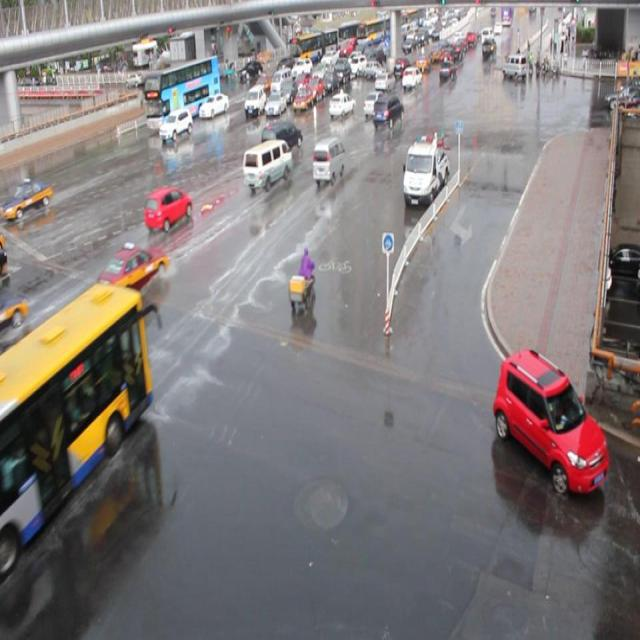bus: (401, 136, 448, 205)
car: (491, 346, 607, 493), (88, 241, 170, 315), (143, 185, 193, 231), (1, 177, 53, 219), (260, 119, 302, 155), (1, 288, 28, 332), (159, 108, 193, 140), (372, 94, 403, 128), (198, 92, 229, 118), (328, 93, 356, 116), (362, 91, 387, 116), (264, 91, 286, 116), (292, 86, 312, 112), (374, 71, 396, 93), (252, 73, 274, 95), (279, 80, 298, 103), (305, 77, 324, 100), (292, 71, 311, 93)
truck: (242, 138, 292, 190), (311, 137, 344, 184), (246, 84, 268, 116), (270, 67, 293, 94)
van: (1, 281, 152, 584), (144, 54, 220, 130)
